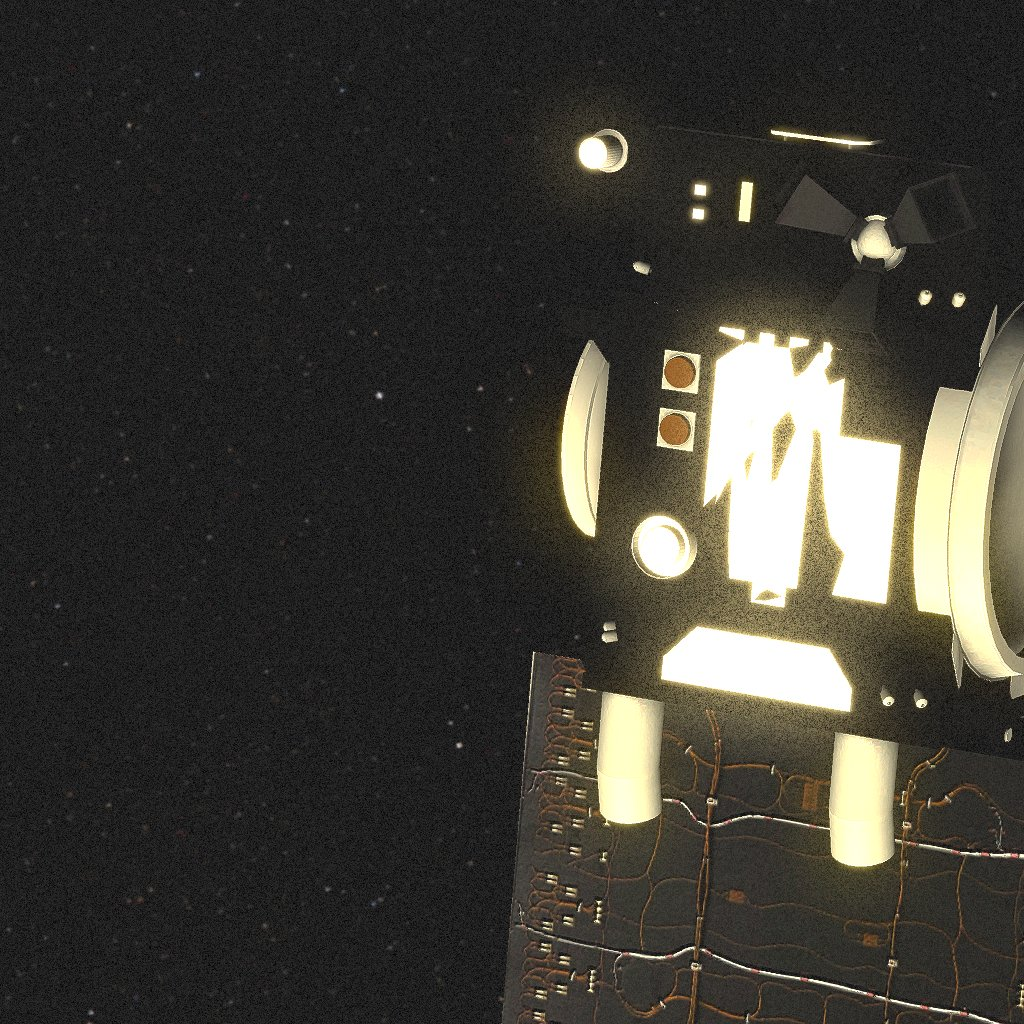proba_3_csc: (502, 103, 1024, 1024)
